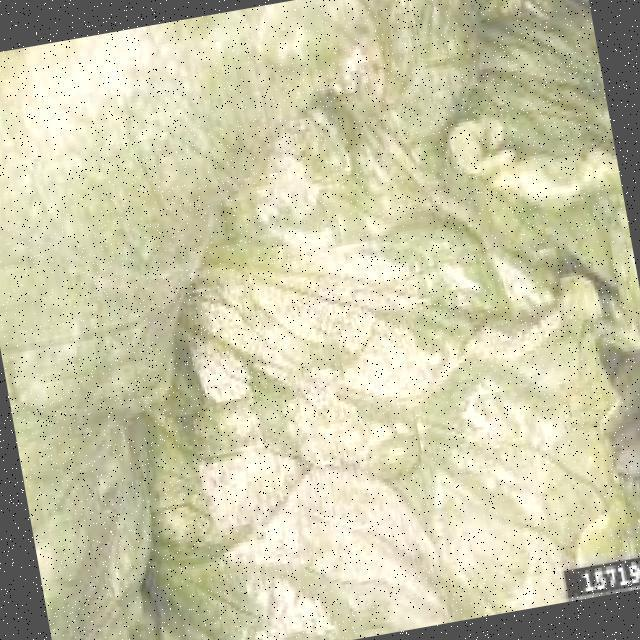Downy_Mildew: (174, 218, 593, 611)
